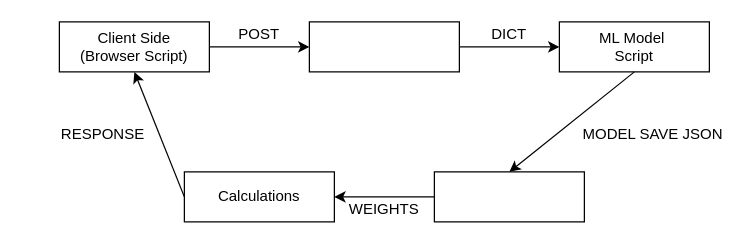
Some shapes in this 755 by 244 pixel diagram are drawn without their labels. The shapes that lost their labels are listed below. From the top down, each one's centre as x and y in pixels, then its label:
the point at 383,46: Server (Django RF)
the point at 508,196: Saved Model
